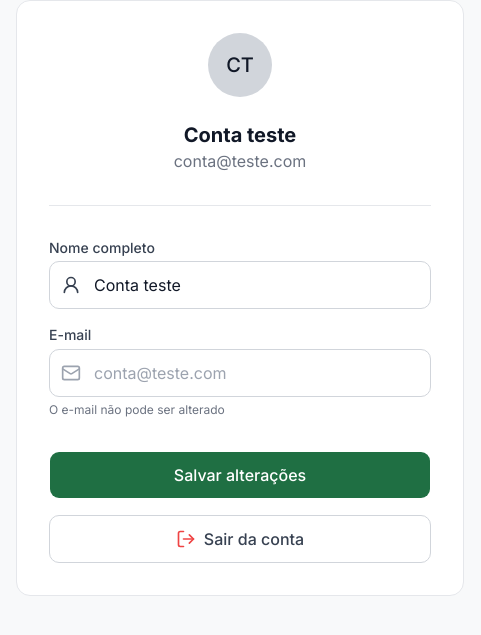
Profile page › requires the name
Clear the field labelled "Nome completo" at (240, 285), box [49,261,431,309]
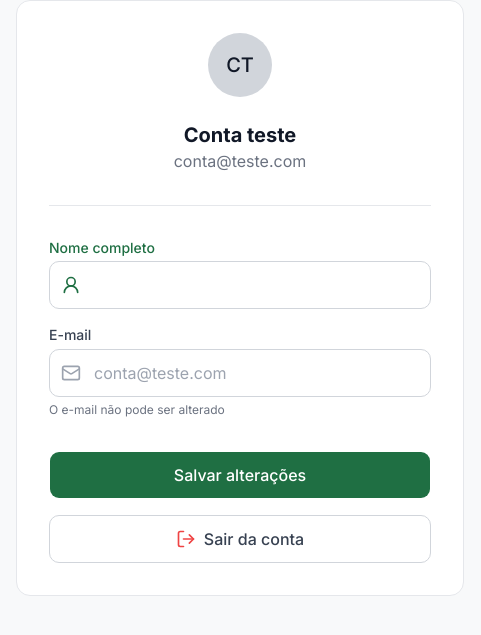
Click the button "Salvar alterações" at (240, 474), box [49,450,431,498]
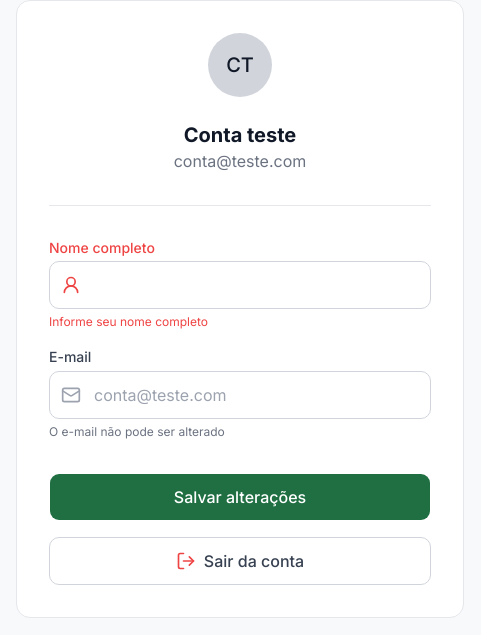
Now the text "Informe seu nome completo" is shown, box [49,314,208,329]
